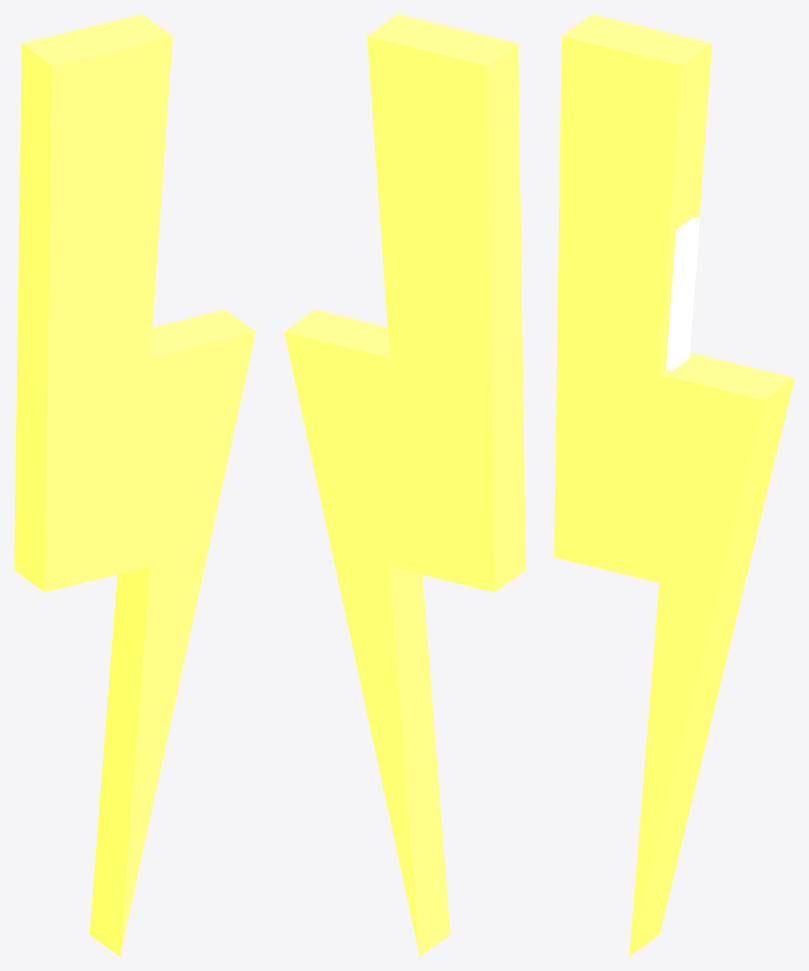
The model's file is lightning-bolt.gltf.
3 renders of one model, left to right at view 1: azimuth 30°, elevation 25°; view 2: azimuth 150°, elevation 25°; view 3: azimuth 330°, elevation 25°, orthographic.
Visible parts, largest first — view 1: AnimeLightningShell; view 2: AnimeLightningShell; view 3: AnimeLightningShell, AnimeLightningCore.
Boxes of the visible parts, x1,y1,x2,y2 form: AnimeLightningShell: [14, 14, 255, 956]; AnimeLightningShell: [284, 14, 525, 956]; AnimeLightningShell: [554, 14, 794, 956]; AnimeLightningCore: [666, 217, 699, 371].
Bounding box in the file's own units: 0.56 × 2.3 × 0.14.
